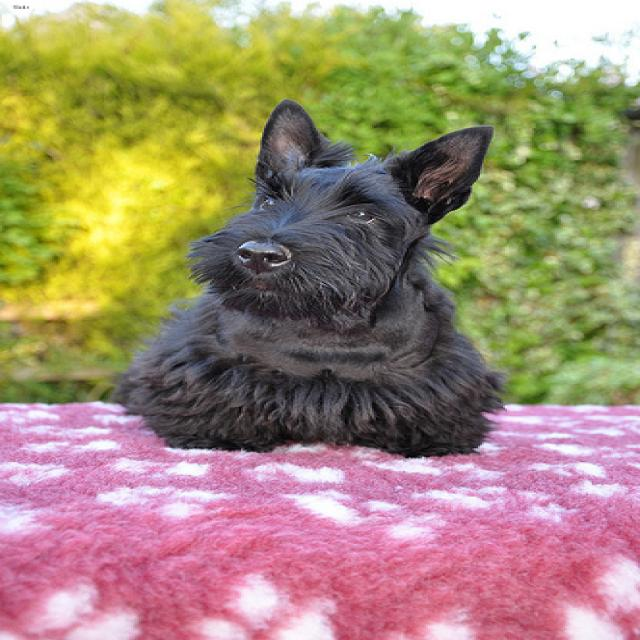dog-scottish_terrier: (100, 92, 513, 467)
